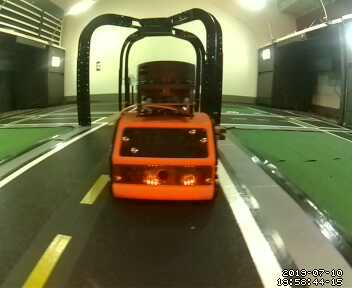pheeno: (110, 60, 220, 204)
